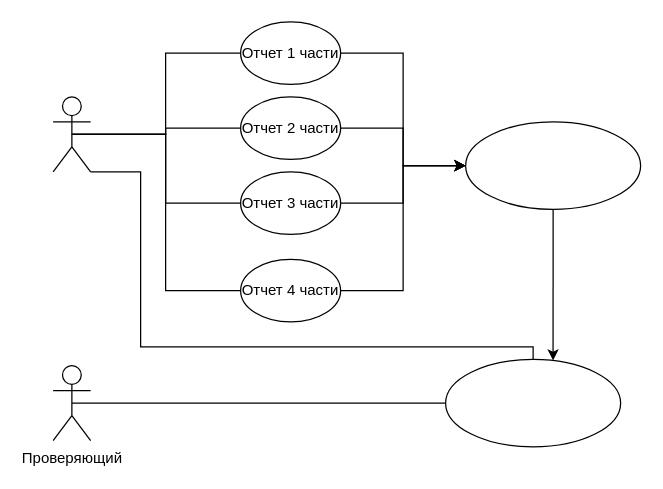
Image size: 663x489. Some labels were removed from this diagram. The box of each missing label's shape, as (x1, y1, x2, y2) in pixels:
Защита: (444, 358, 621, 447)
Отчет по комплексной лабораторной работе: (464, 121, 641, 209)
Разработчик: (52, 96, 91, 172)
